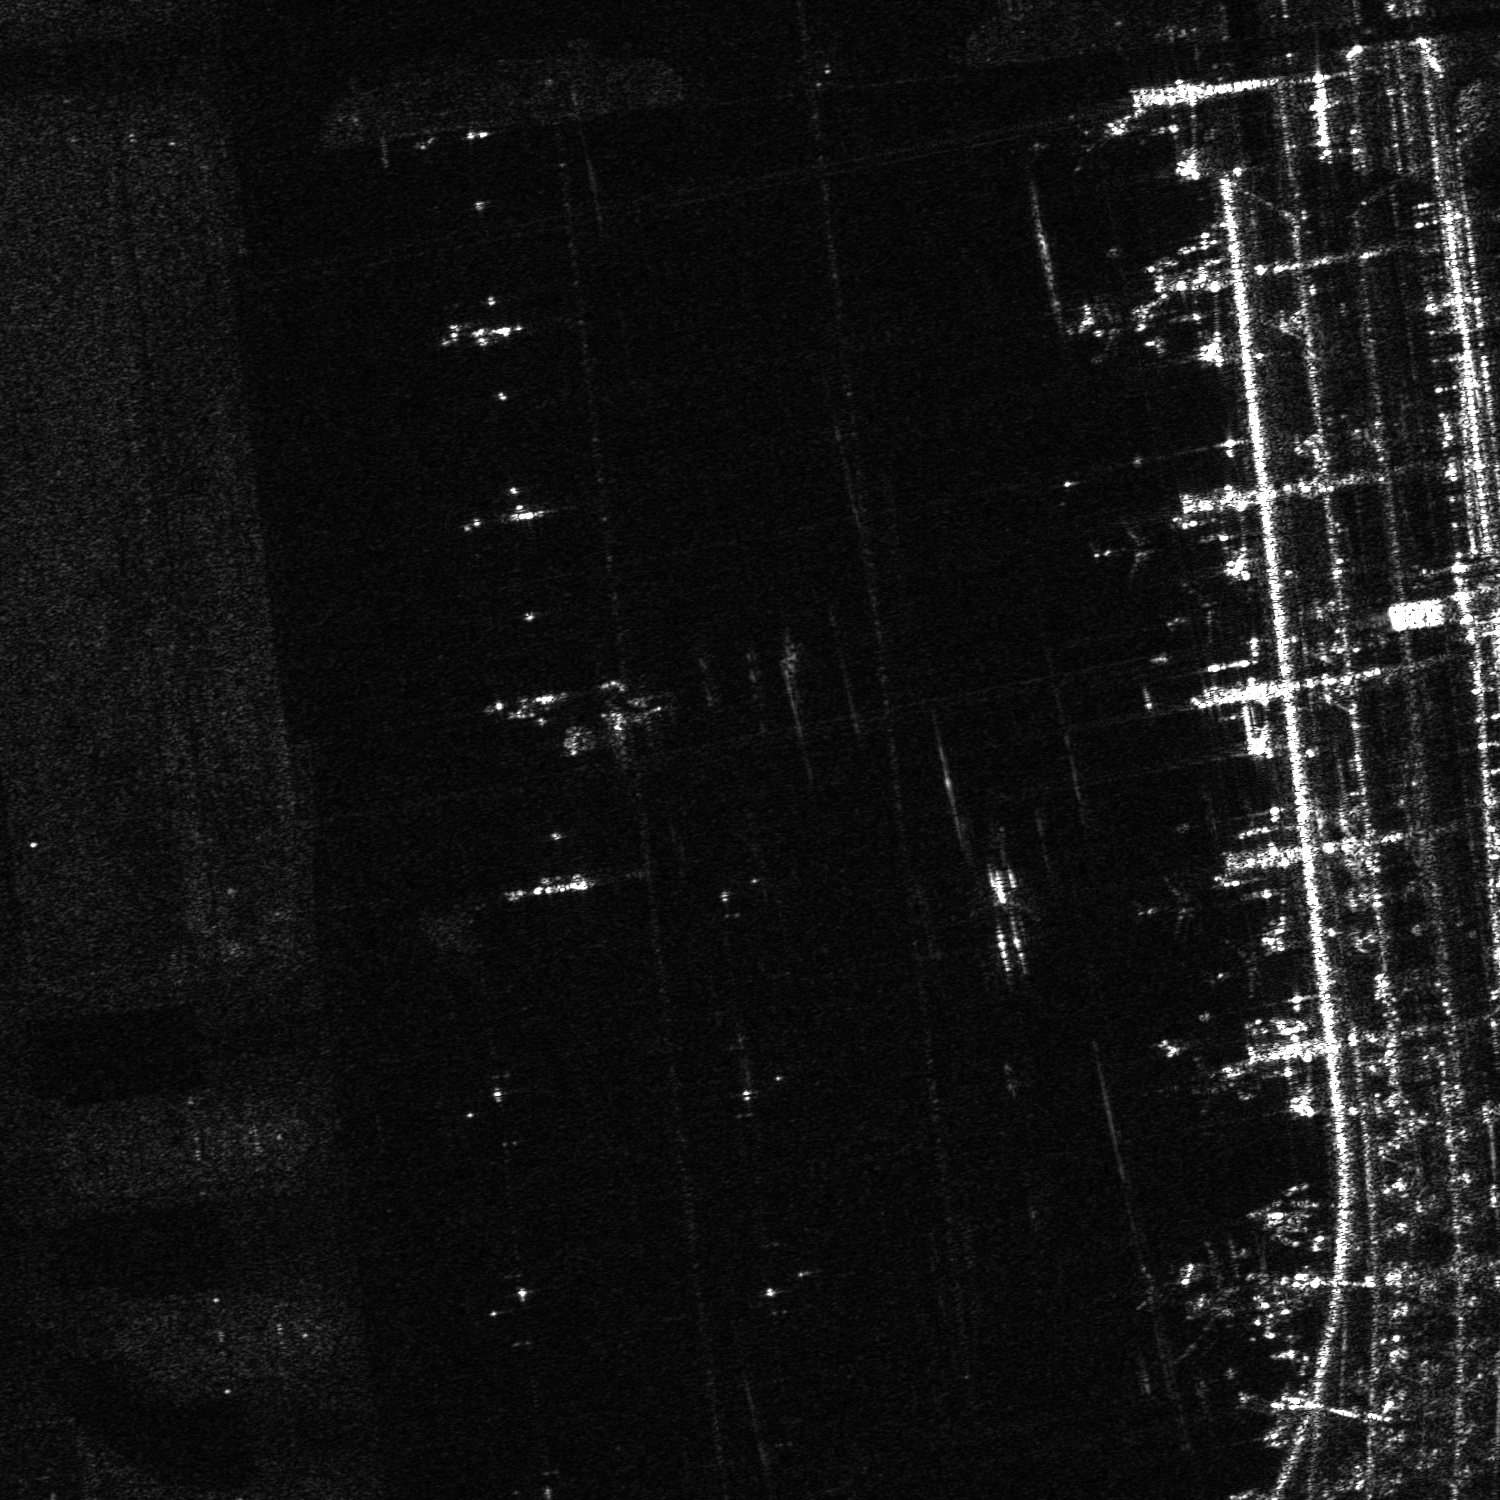Boeing787: (1132, 1232, 1251, 1364), (1129, 870, 1205, 944), (1093, 518, 1165, 587), (1161, 580, 1229, 646), (1207, 935, 1271, 999)
